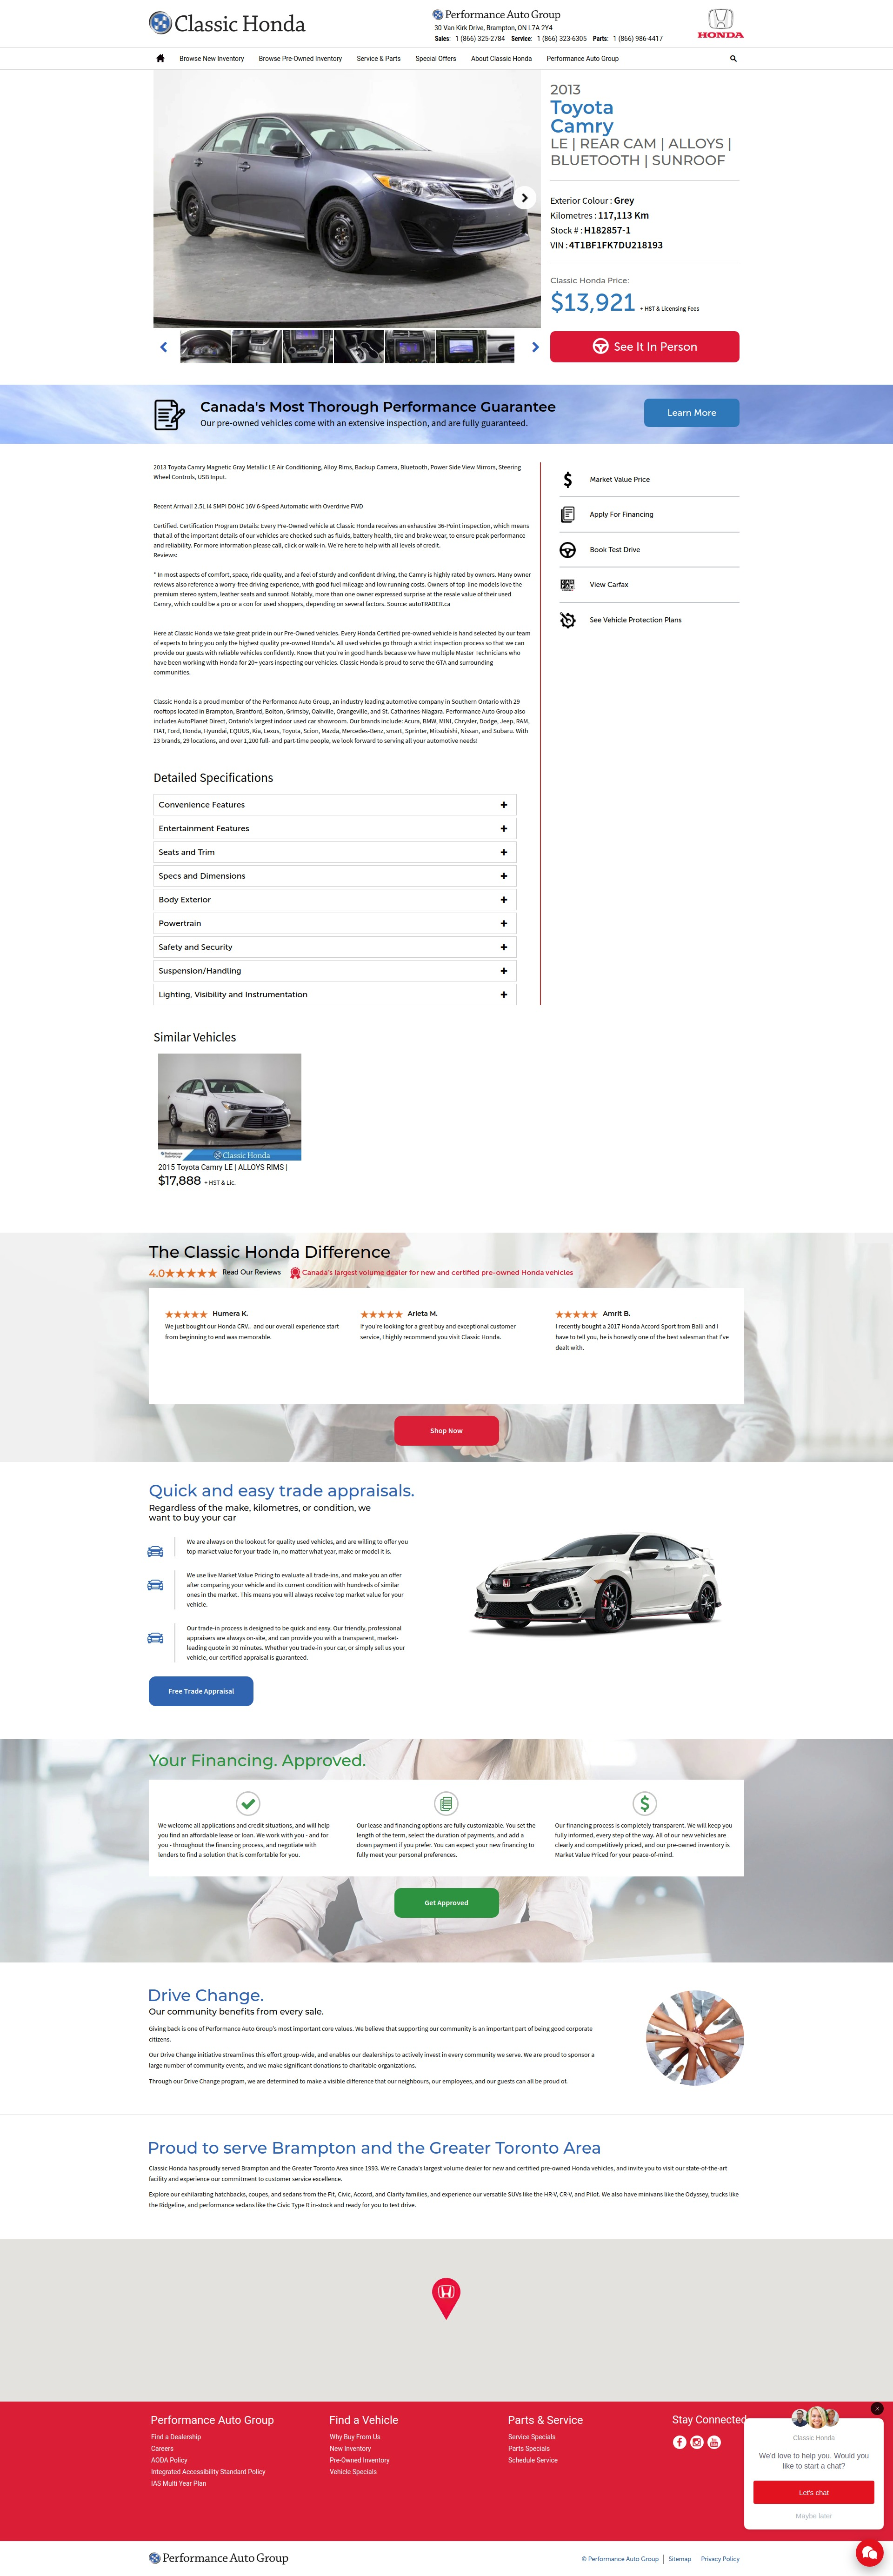car: (532, 342, 540, 353)
